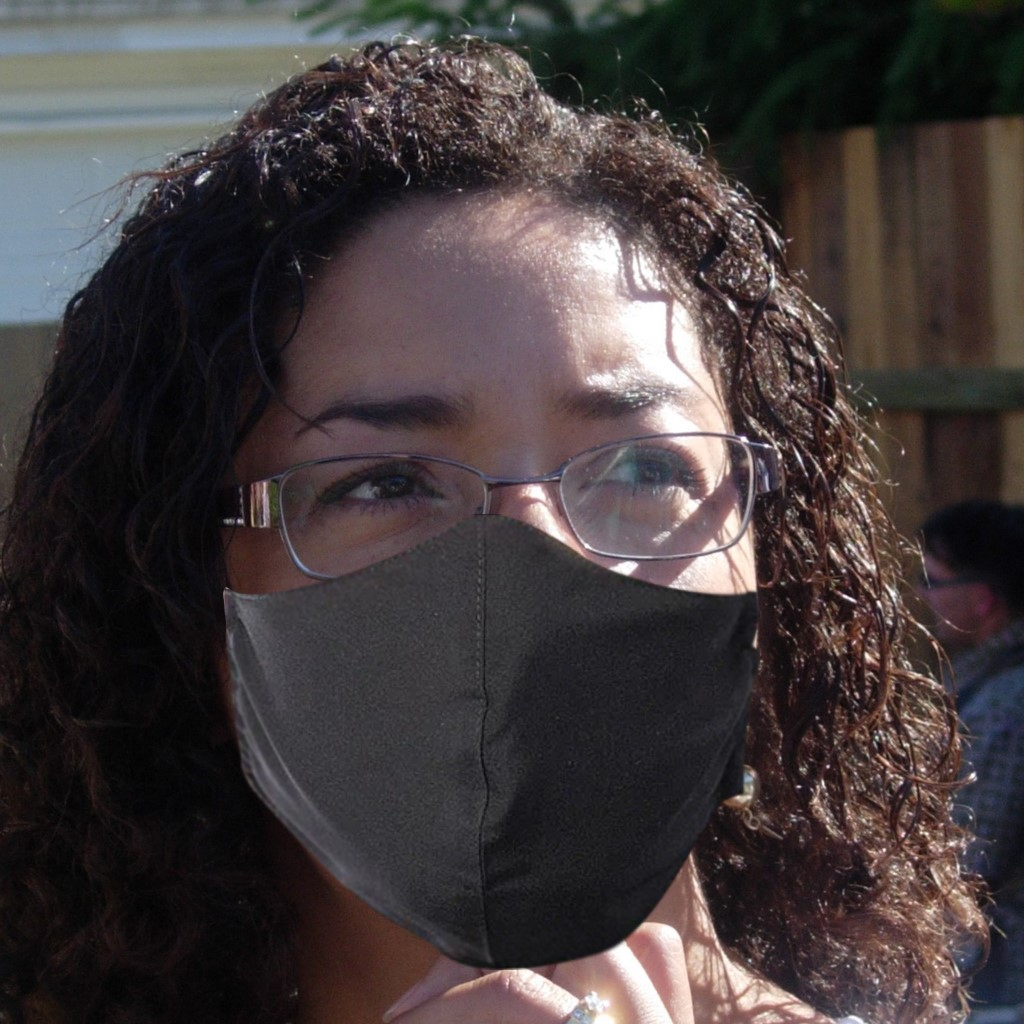con_mascara: (204, 185, 764, 977)
